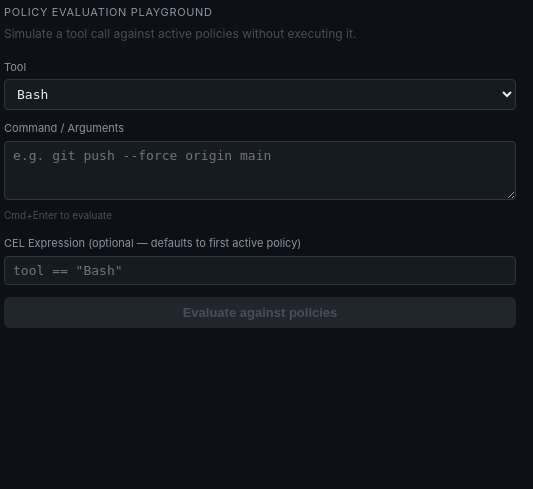
Test: PolicyPlayground — fetch payload › sends correct JSON body to /simulate endpoint
Type "rm -rf /" into the text box with placeholder "e.g. git push --force origin main" at (260, 170), box [4, 140, 516, 200]
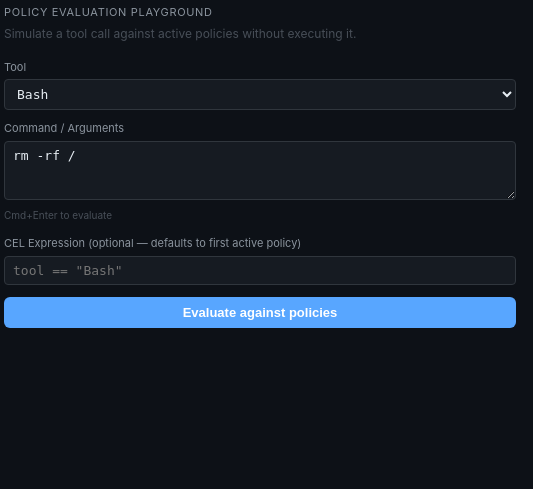
Click the button "Evaluate against policies" at (260, 312), box [4, 296, 516, 328]
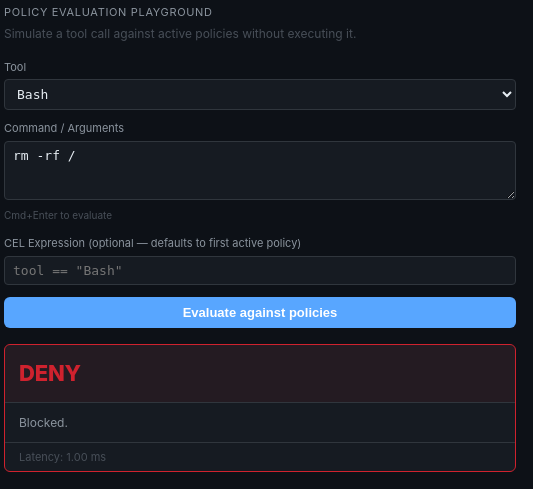
Now the text "DENY" is shown, box [19, 360, 81, 386]
